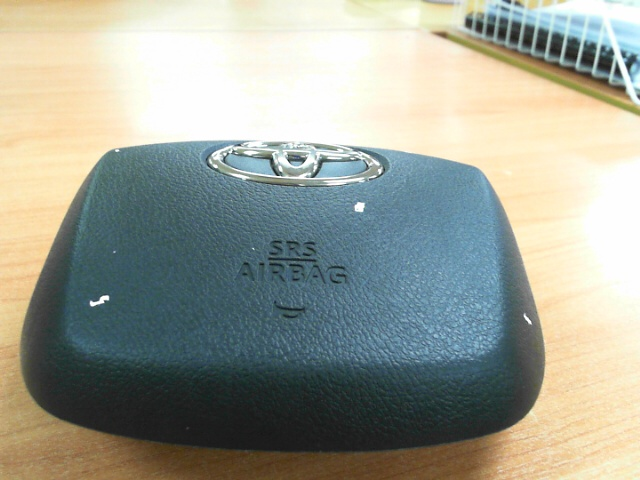Airbag: (89, 295, 110, 308), (353, 201, 366, 213), (522, 312, 533, 326)
